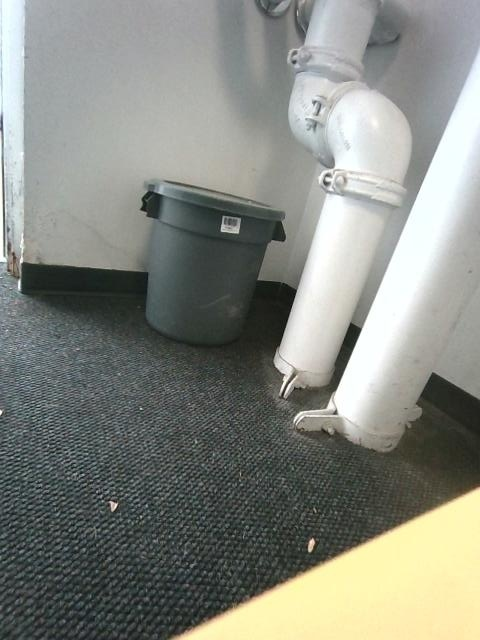ball: (274, 0, 411, 397), (141, 180, 284, 344)
